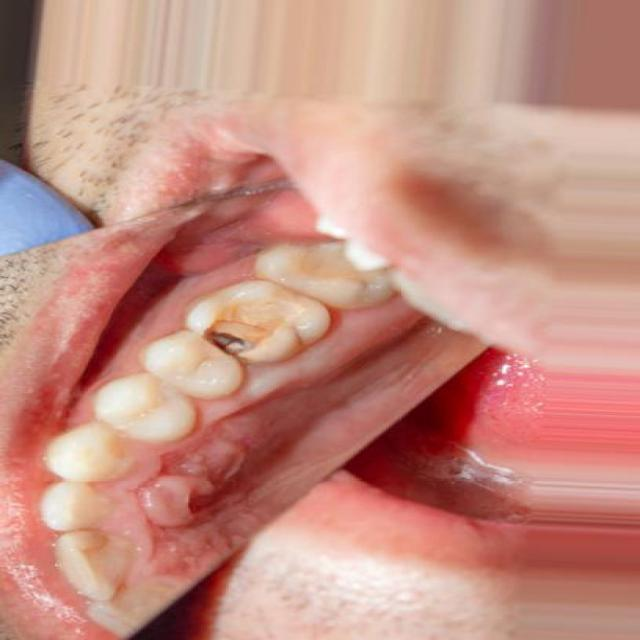caries: (189, 285, 305, 363)
